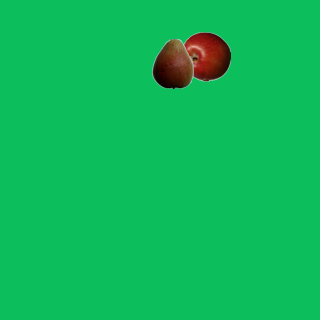Apple Braeburn: (180, 31, 230, 81)
Pear Forelle: (147, 38, 197, 88)
